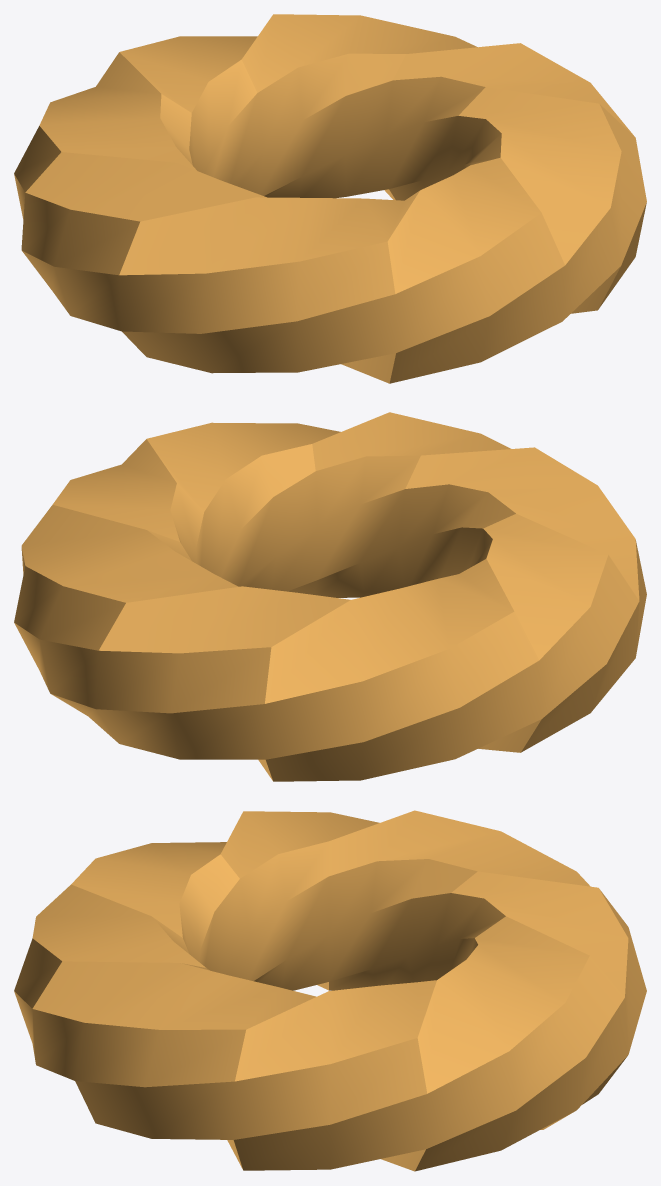
File: TwistedTorus_04.fbx
3 renders of one model, top to bottom at view 1: azimuth 30°, elevation 25°; view 2: azimuth 150°, elevation 25°; view 3: azimuth 270°, elevation 25°, orthographic.
Visible parts, largest first — view 1: TwistedTorus_04; view 2: TwistedTorus_04; view 3: TwistedTorus_04.
Boxes of the visible parts, x1,y1,x2,y2 form: TwistedTorus_04: (14, 14, 646, 383); TwistedTorus_04: (14, 412, 646, 781); TwistedTorus_04: (14, 810, 646, 1171).
Size of the model in its own units: 375 by 97.5 by 375.
